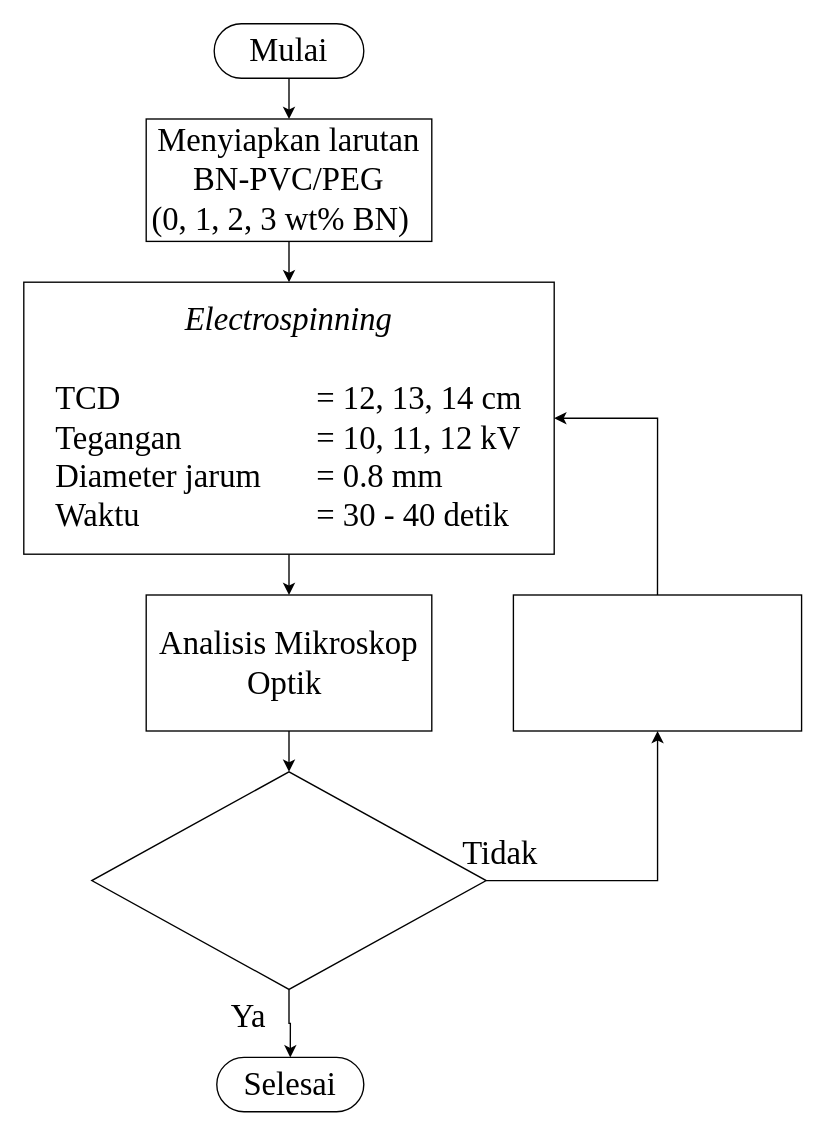
The diagram is 826 pixels wide and 1136 high, and some of its shapes have lost their labels. The centre of each missing label's shape, as x and y in pixels:
Apakah serat kontinu dan minimum beads ?: the point at 288,879
Evaluasi parameter TCD dan tegangan: the point at 657,662
